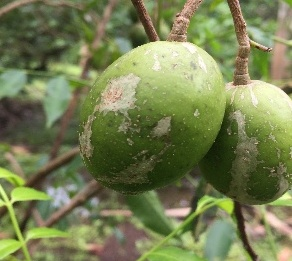Coc: (71, 34, 227, 194)
